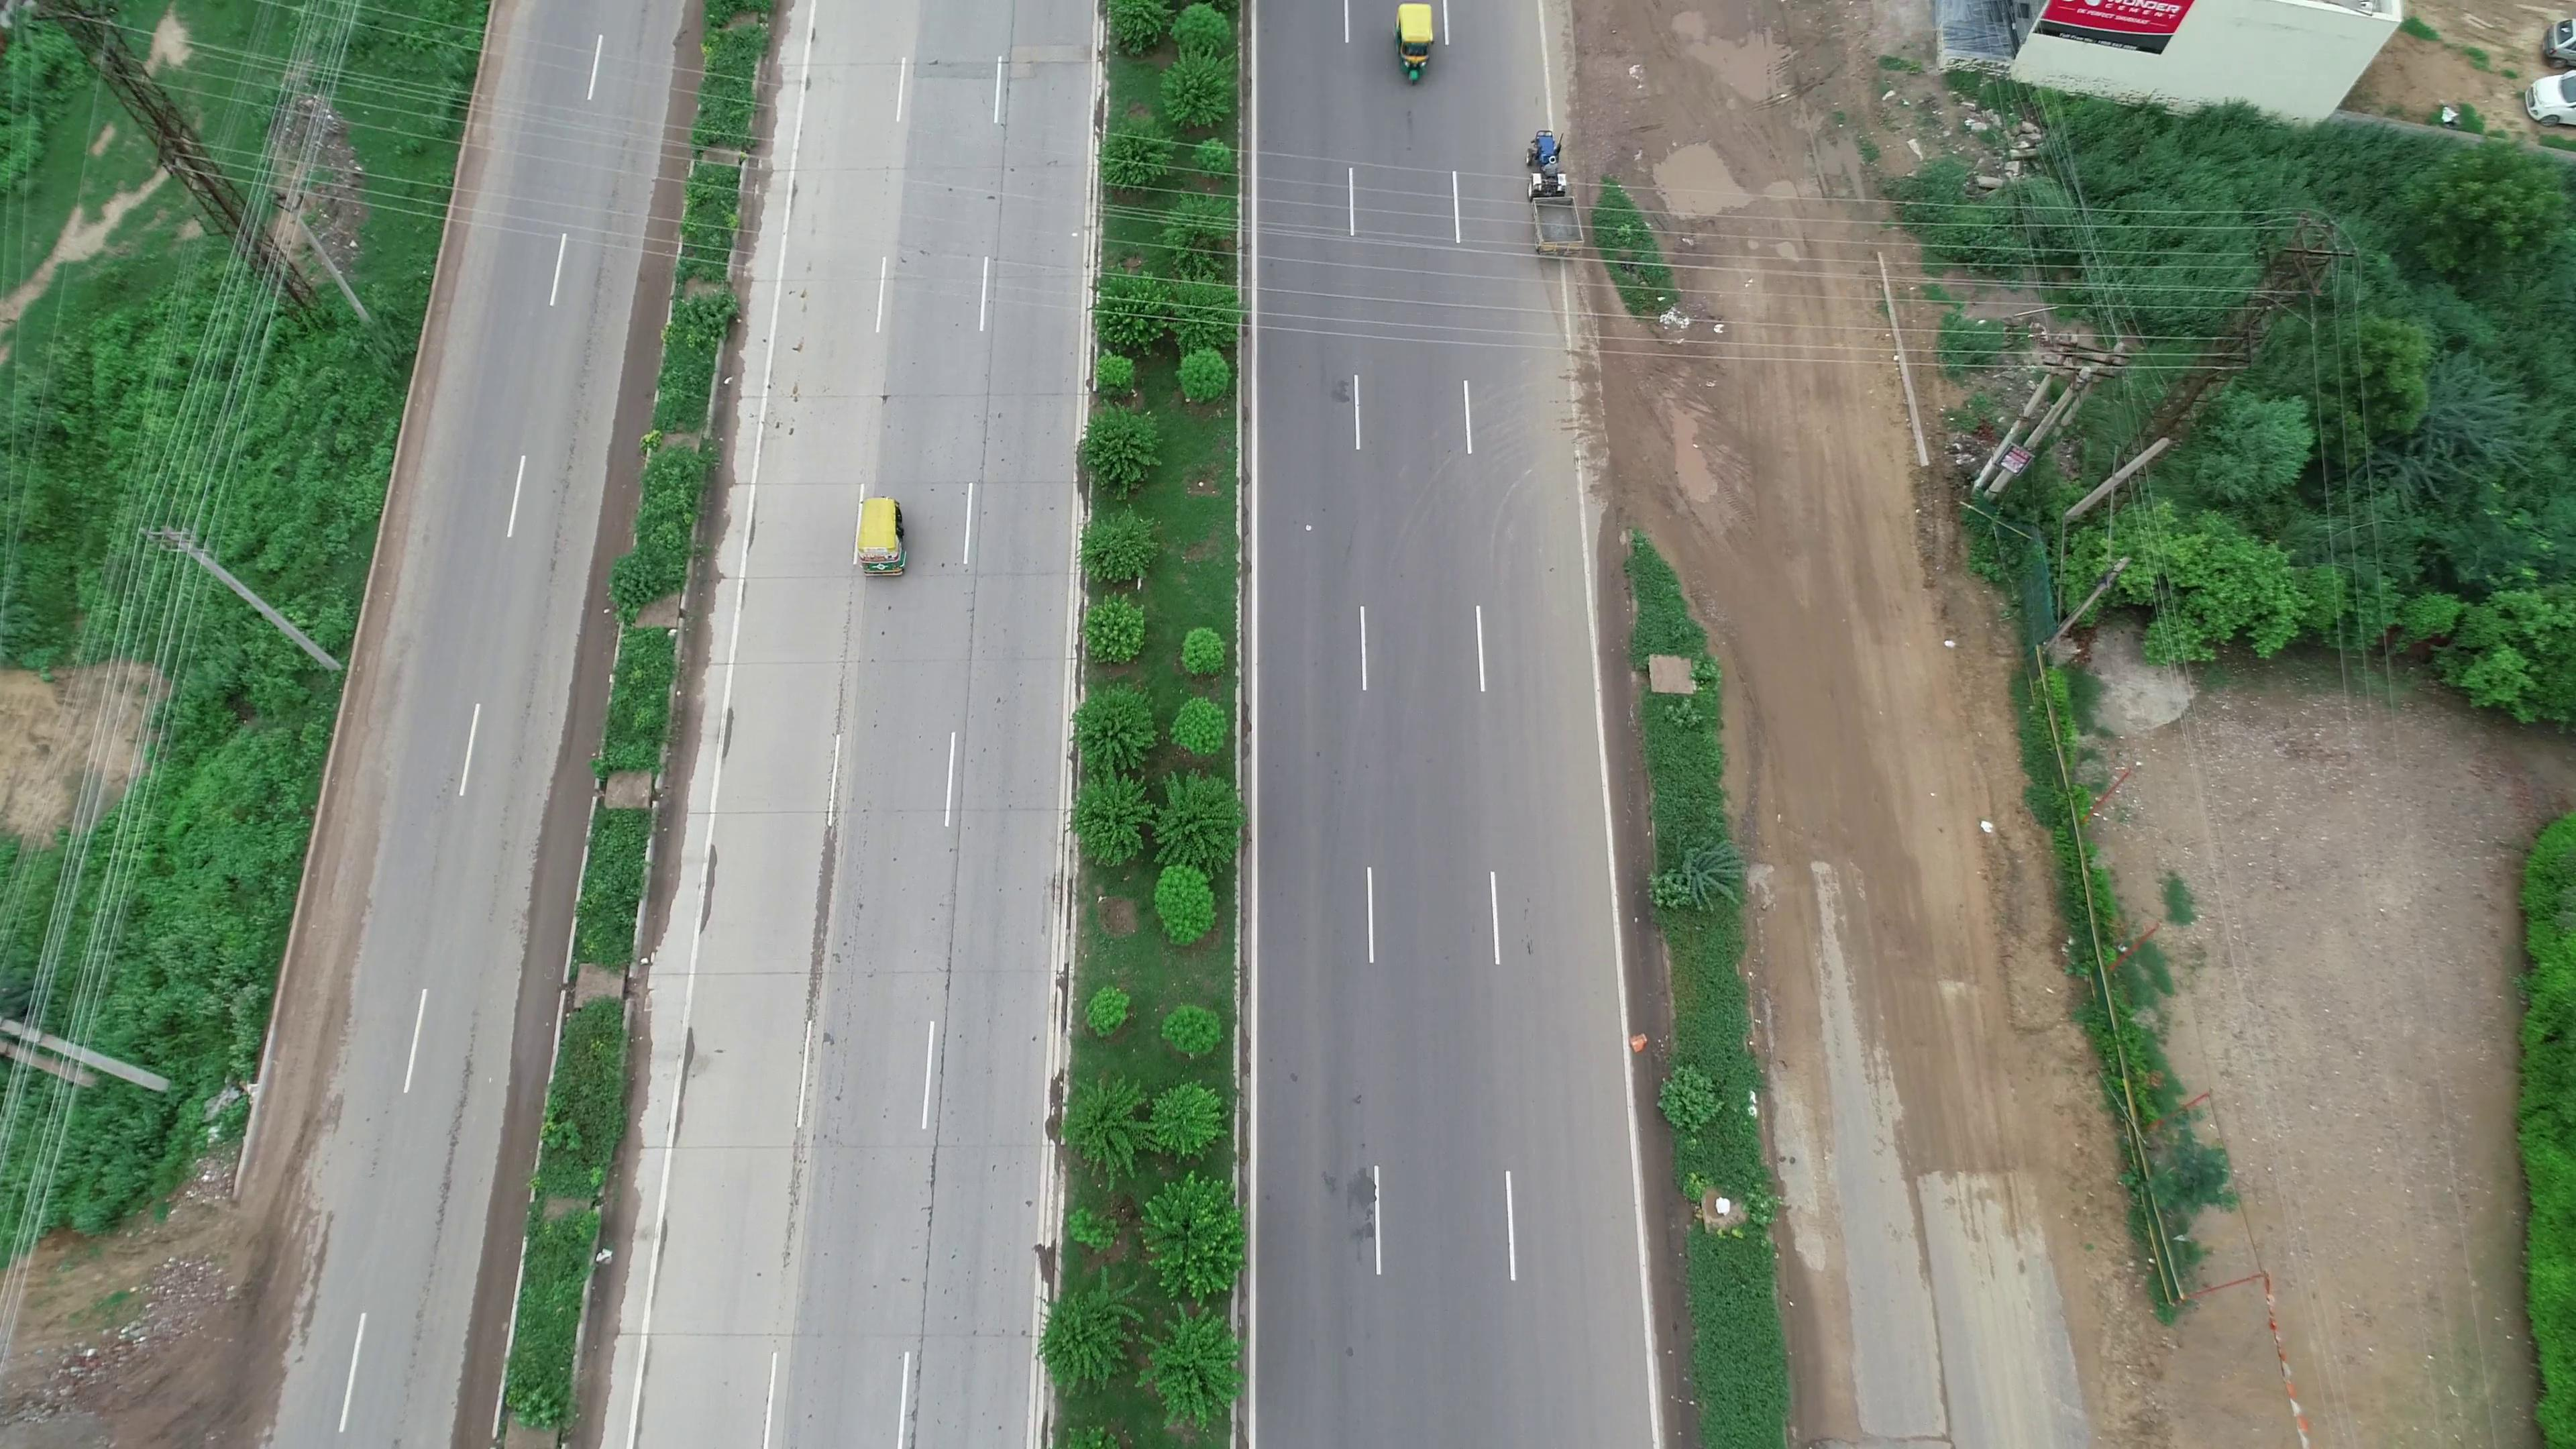Muddy_road: (1660, 386, 1964, 1016)
